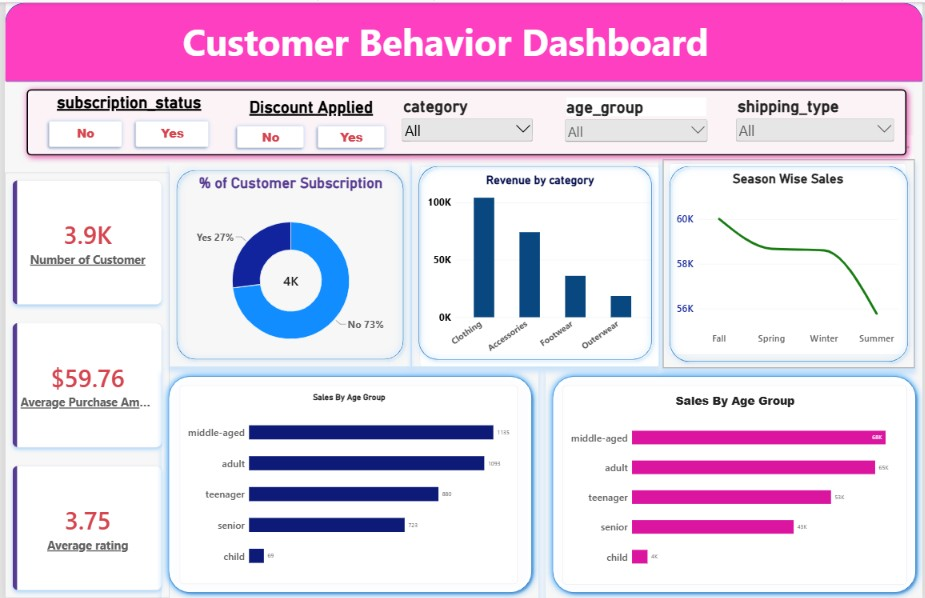

This screenshot's page, from the dashboard's own definition file:
{"tool":"powerbi","page":{"name":"Page 1","canvas":[2000,1300],"ordinal":0},"visuals":[{"type":"shape","box":[1177.8,798.4,821.1,501.1],"z":0},{"type":"cardVisual","fields":{"Data":["customer_behaviour customer_data.Number of Customer","customer_behaviour customer_data.Average Purchase Amount","customer_behaviour customer_data.Average rating"]},"box":[0,370.9,359.6,928.7],"z":1000},{"type":"shape","box":[0,0,2000.7,173.4],"z":2000},{"type":"textbox","box":[30.3,30.3,1859,116.9],"z":3000},{"type":"donutChart","title":"% of Customer Subscription","fields":{"Category":["customer_behaviour customer_data.subscription_status"],"Y":["customer_behaviour customer_data.Number of Customer"]},"box":[362.4,359.6,522.8,437.3],"z":4000},{"type":"shape","box":[359.6,351.1,523.8,441.7],"z":5000},{"type":"clusteredColumnChart","title":"Revenue by category","fields":{"Category":["customer_behaviour customer_data.category"],"Y":["Sum(customer_behaviour customer_data.purchase_amount)"]},"box":[903.2,356.7,522.8,437.3],"z":6000},{"type":"shape","box":[886.2,342.6,537.8,451.1],"z":7000},{"type":"lineChart","title":"Season Wise Sales","fields":{"Category":["customer_behaviour customer_data.season"],"Y":["Sum(customer_behaviour customer_data.purchase_amount)"]},"box":[1446.8,351.1,517.8,417.8],"z":8000},{"type":"shape","box":[1432.6,342.6,550.4,454.9],"z":9000},{"type":"shape","box":[31.1,172.7,1950.8,178.4],"z":10000},{"type":"shape","box":[342.6,798.4,821.1,501.1],"z":11000},{"type":"clusteredBarChart","title":"Sales By Age Group","fields":{"Category":["customer_behaviour customer_data.age_group"],"Y":["customer_behaviour customer_data.Number of Customer"]},"box":[382.2,835.2,736.1,433.2],"z":12000},{"type":"clusteredBarChart","title":"Sales By Age Group","fields":{"Category":["customer_behaviour customer_data.age_group"],"Y":["Sum(customer_behaviour customer_data.purchase_amount)"]},"box":[1194.8,863.5,787.1,404.9],"z":13000},{"type":"advancedSlicerVisual","fields":{"Values":["customer_behaviour customer_data.subscription_status"]},"box":[65.1,195.4,410.5,130.2],"z":14000},{"type":"slicer","title":"Age Group","fields":{"Values":["customer_behaviour customer_data.age_group"]},"box":[1214.6,206.7,319.9,118.9],"z":15000},{"type":"slicer","title":"Shipping Type","fields":{"Values":["customer_behaviour customer_data.shipping_type"]},"box":[1588.4,203.9,353.9,113.3],"z":16000},{"type":"slicer","title":"Category","fields":{"Values":["customer_behaviour customer_data.category"]},"box":[860.7,203.9,294.5,121.7],"z":17000},{"type":"advancedSlicerVisual","title":"Discount Applied","fields":{"Values":["customer_behaviour customer_data.discount_applied"]},"box":[475.7,206.7,385.1,121.7],"z":18000}]}

Visuals, with their boxes in screenshot pixels (x1, y1, x2, y2), scaled from the page's 2000x1300 canvas onto the 925x598 screenshot:
shape: pyautogui.locateOnScreen(545, 367, 924, 597)
cardVisual - customer_behaviour customer_data.Number of Customer x customer_behaviour customer_data.Average Purchase Amount: pyautogui.locateOnScreen(0, 171, 166, 597)
shape: pyautogui.locateOnScreen(0, 0, 924, 80)
textbox: pyautogui.locateOnScreen(14, 14, 874, 68)
"% of Customer Subscription" donutChart: pyautogui.locateOnScreen(168, 165, 409, 367)
shape: pyautogui.locateOnScreen(166, 162, 409, 365)
"Revenue by category" clusteredColumnChart: pyautogui.locateOnScreen(418, 164, 660, 365)
shape: pyautogui.locateOnScreen(410, 158, 659, 365)
"Season Wise Sales" lineChart: pyautogui.locateOnScreen(669, 162, 909, 354)
shape: pyautogui.locateOnScreen(663, 158, 917, 367)
shape: pyautogui.locateOnScreen(14, 79, 917, 162)
shape: pyautogui.locateOnScreen(158, 367, 538, 597)
"Sales By Age Group" clusteredBarChart: pyautogui.locateOnScreen(177, 384, 517, 583)
"Sales By Age Group" clusteredBarChart: pyautogui.locateOnScreen(553, 397, 917, 583)
advancedSlicerVisual - customer_behaviour customer_data.subscription_status: pyautogui.locateOnScreen(30, 90, 220, 150)
"Age Group" slicer: pyautogui.locateOnScreen(562, 95, 710, 150)
"Shipping Type" slicer: pyautogui.locateOnScreen(735, 94, 898, 146)
"Category" slicer: pyautogui.locateOnScreen(398, 94, 534, 150)
"Discount Applied" advancedSlicerVisual: pyautogui.locateOnScreen(220, 95, 398, 151)
